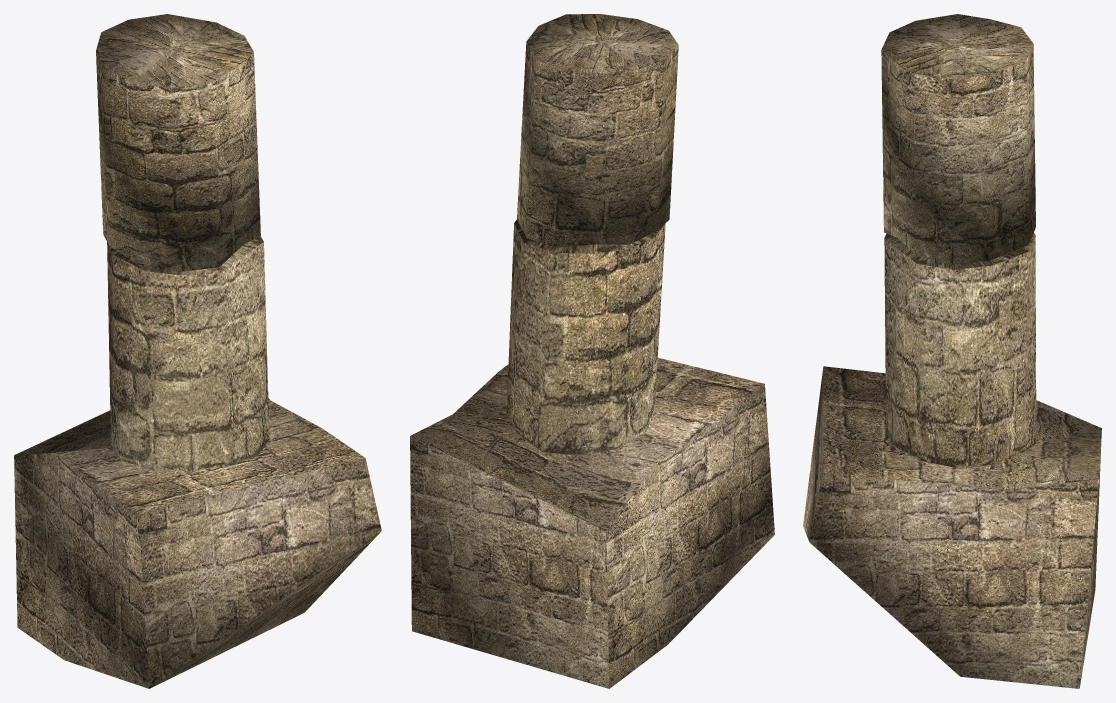
Rendered from ADDON_MAYA_PILLAR_03.glb.
The picture shows the model from 3 angles, left to right: view 1: azimuth 30°, elevation 25°; view 2: azimuth 150°, elevation 25°; view 3: azimuth 270°, elevation 25°; orthographic projection. The views are drawn at different scales.
Visible parts, largest first — view 1: Mesh; view 2: Mesh; view 3: Mesh.
Boxes of the visible parts, x1=… form: Mesh: x1=14, y1=14, x2=381, y2=688; Mesh: x1=410, y1=14, x2=774, y2=688; Mesh: x1=803, y1=14, x2=1101, y2=688.
Size of the model in its own units: 1.41 by 3.45 by 1.6.
1 material, 1 textured.
